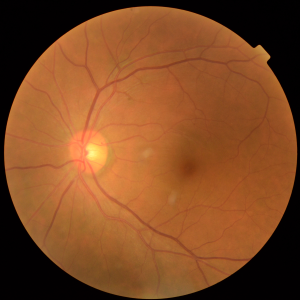retina_disease: (37, 102, 236, 214)
